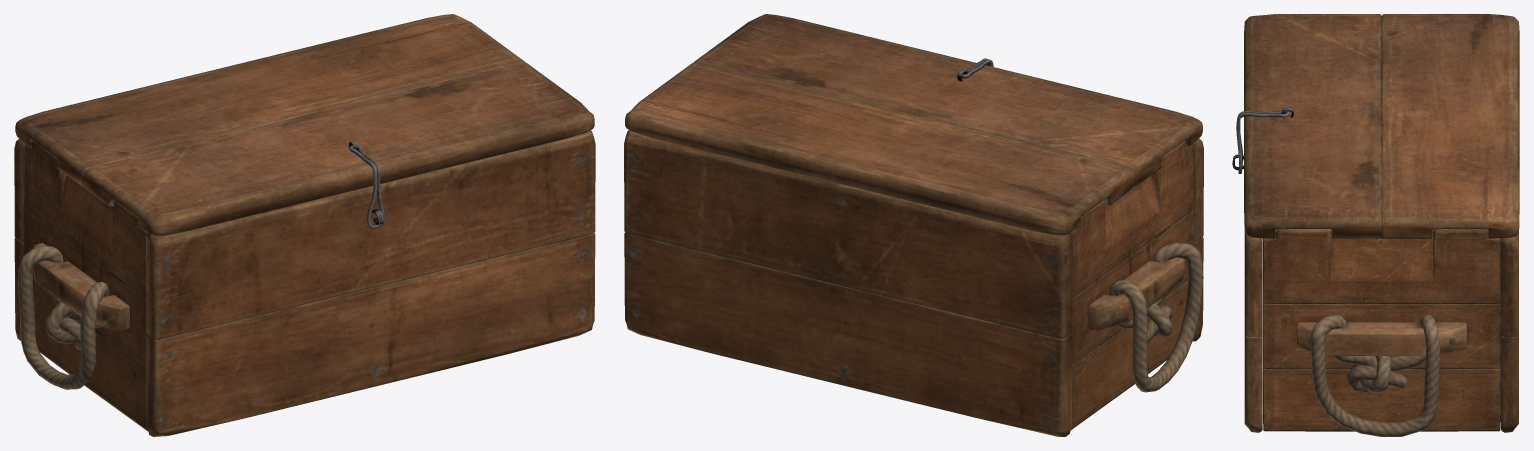
Rendered from wooden_crate_01.glb.
3 views of the same model, side by side, from view 1: azimuth 30°, elevation 25°; view 2: azimuth 150°, elevation 25°; view 3: azimuth 270°, elevation 25° (orthographic). The views are drawn at different scales.
Parts seen in each view (by area): view 1: wooden_crate_01, wooden_crate_01_lid, wooden_crate_01_latch; view 2: wooden_crate_01, wooden_crate_01_lid; view 3: wooden_crate_01_lid, wooden_crate_01, wooden_crate_01_latch.
Part boxes in pixels (x1=…): wooden_crate_01: x1=14, y1=130, x2=595, y2=436; wooden_crate_01_lid: x1=15, y1=14, x2=594, y2=236; wooden_crate_01_latch: x1=349, y1=145, x2=384, y2=228; wooden_crate_01: x1=624, y1=130, x2=1203, y2=436; wooden_crate_01_lid: x1=625, y1=14, x2=1202, y2=235; wooden_crate_01_lid: x1=1244, y1=14, x2=1519, y2=238; wooden_crate_01: x1=1232, y1=154, x2=1518, y2=436; wooden_crate_01_latch: x1=1236, y1=111, x2=1289, y2=173.
Bounding box in the file's own units: 0.8253 × 0.3495 × 0.409.
Materials: 1 (1 with a texture image).
